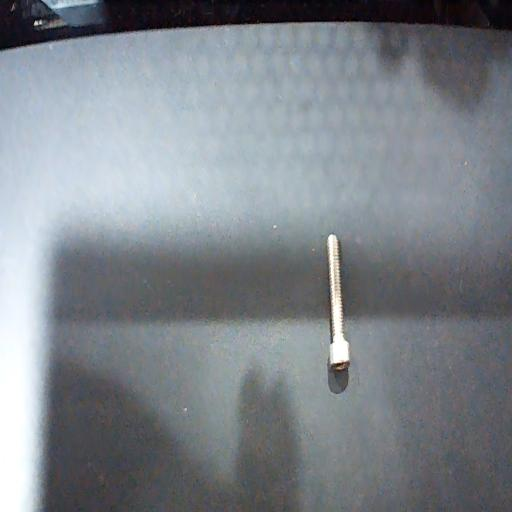screw: (326, 234, 350, 371)
